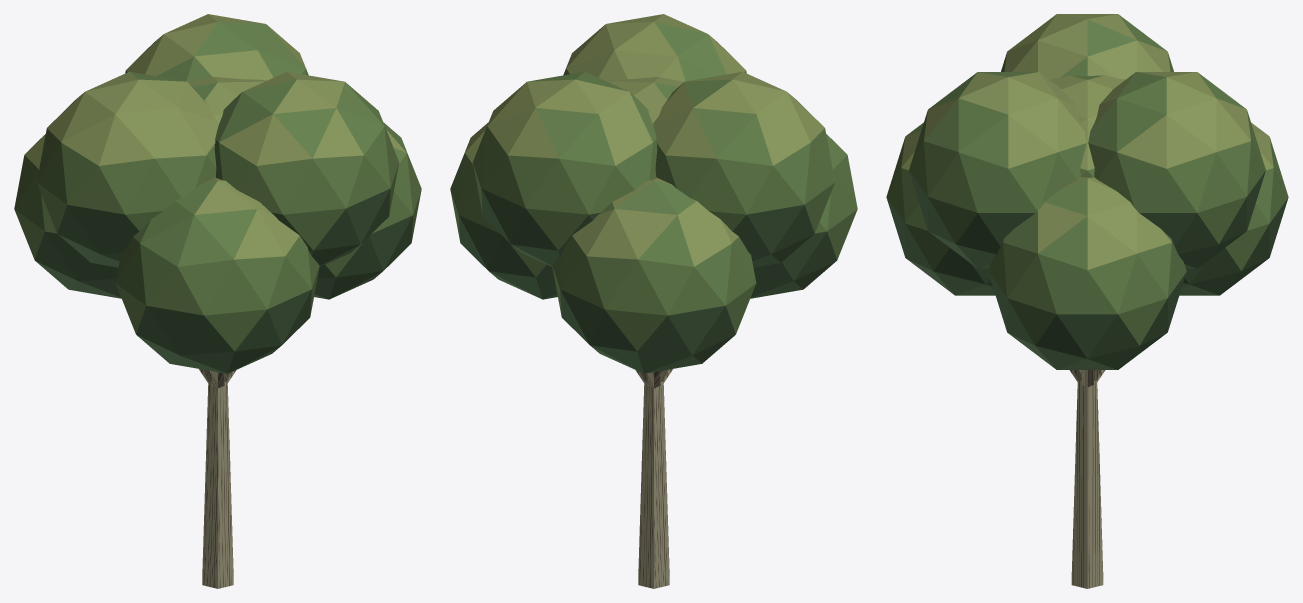
File: SM_QD_Veg_PlaneTree.fbx
3 renders of one model, left to right at view 1: azimuth 30°, elevation 25°; view 2: azimuth 150°, elevation 25°; view 3: azimuth 270°, elevation 25°, orthographic.
Parts seen in each view (by area): view 1: SM_QD_Veg_PlaneTree; view 2: SM_QD_Veg_PlaneTree; view 3: SM_QD_Veg_PlaneTree.
Part boxes in pixels (x1,y1,x2,y2): SM_QD_Veg_PlaneTree: (14, 14, 421, 588); SM_QD_Veg_PlaneTree: (450, 14, 857, 588); SM_QD_Veg_PlaneTree: (886, 14, 1288, 588).
Bounding box in the file's own units: 4.72 × 4.62 × 6.63.
1 material, 1 textured.
